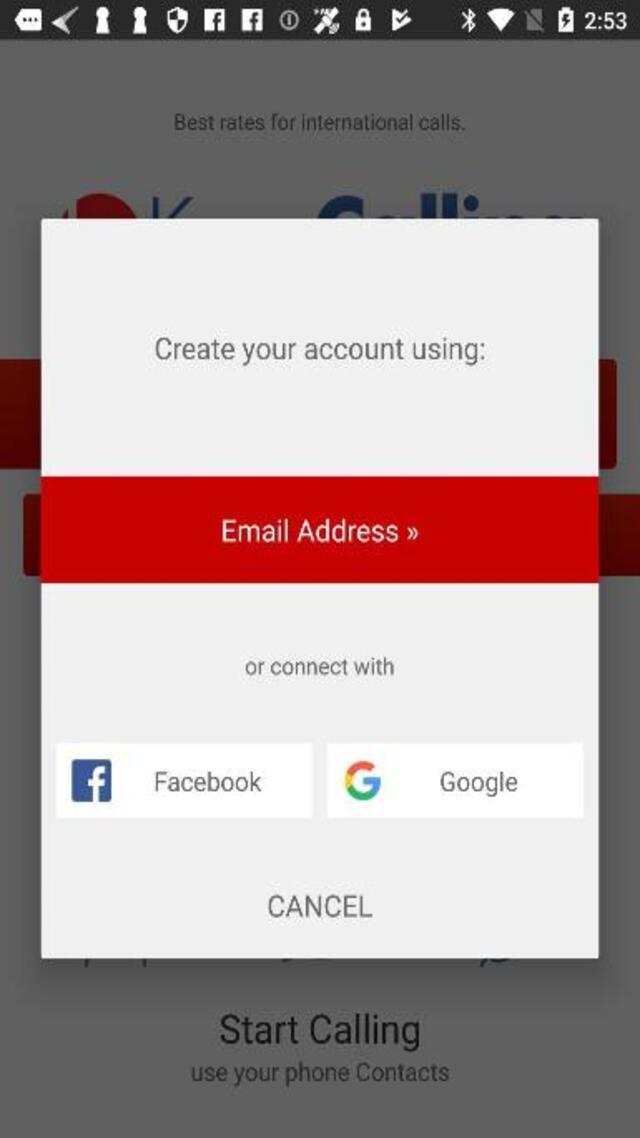Icon: (339, 759, 382, 802), (70, 758, 111, 802)
Text: (154, 336, 483, 365), (220, 1012, 418, 1051), (192, 1064, 450, 1088), (218, 516, 405, 546), (177, 114, 466, 132), (150, 766, 266, 797), (245, 656, 396, 678), (435, 767, 526, 799), (268, 894, 374, 916)
TextButton: (40, 476, 598, 584), (328, 742, 584, 818), (56, 742, 312, 818)
